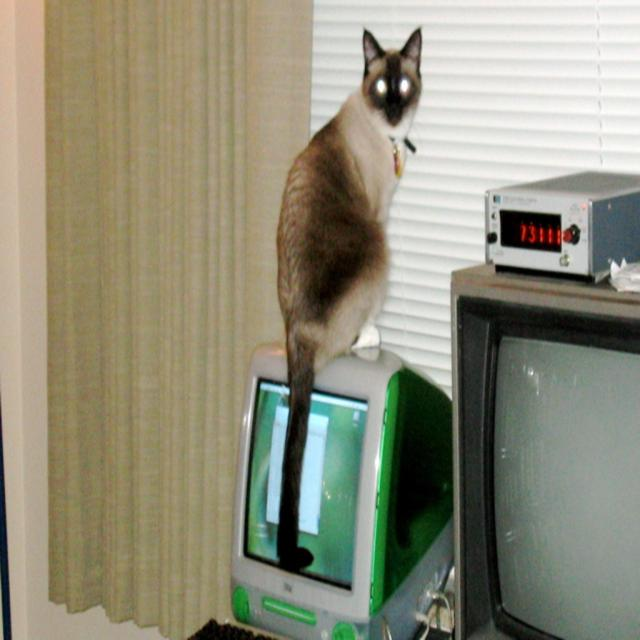Cat: (270, 22, 421, 576)
